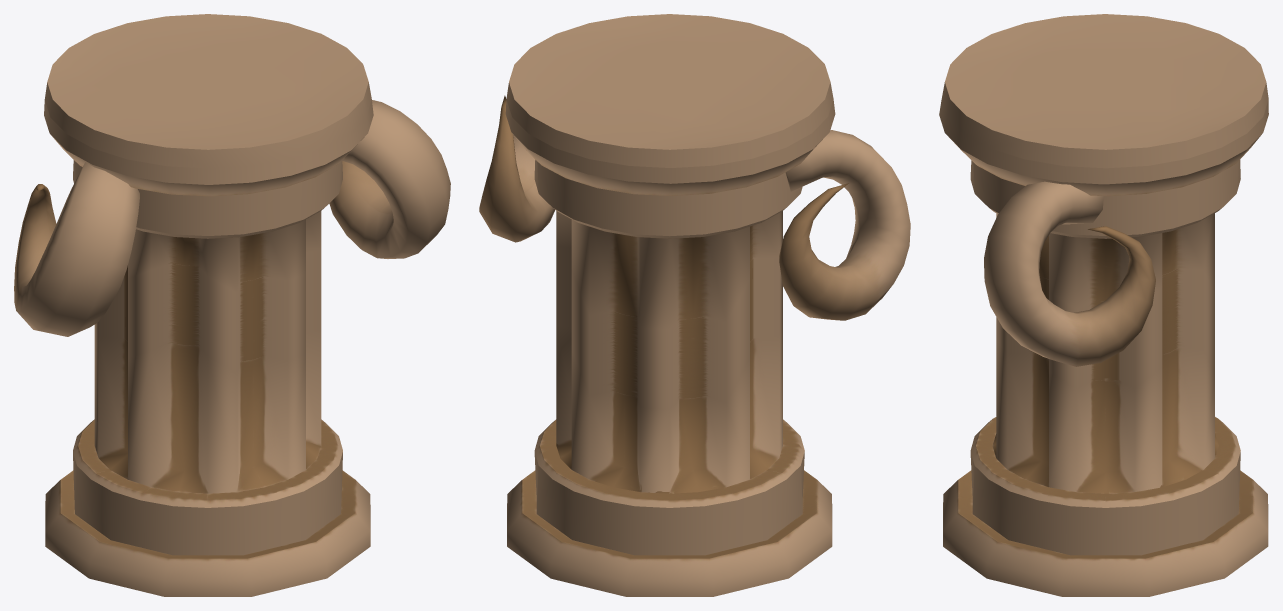
Rendered from SM_pillar_thick.fbx.
3 renders of one model, left to right at view 1: azimuth 30°, elevation 25°; view 2: azimuth 150°, elevation 25°; view 3: azimuth 270°, elevation 25°, orthographic.
Visible parts, largest first — view 1: Pilar__5_; view 2: Pilar__5_; view 3: Pilar__5_.
Part boxes in pixels (x1=…): Pilar__5_: x1=14, y1=14, x2=450, y2=596; Pilar__5_: x1=479, y1=14, x2=910, y2=596; Pilar__5_: x1=939, y1=14, x2=1268, y2=596.
Bounding box in the file's own units: 17.82 × 12.32 × 18.41.
